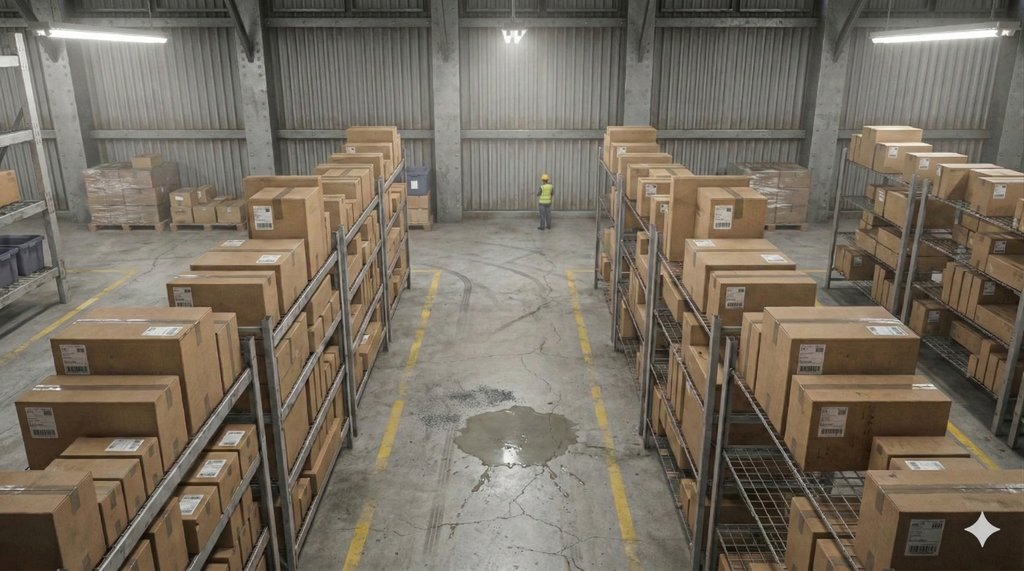person: (518, 174, 572, 240)
safety_vest: (537, 187, 555, 208)
spill: (440, 383, 615, 510)
